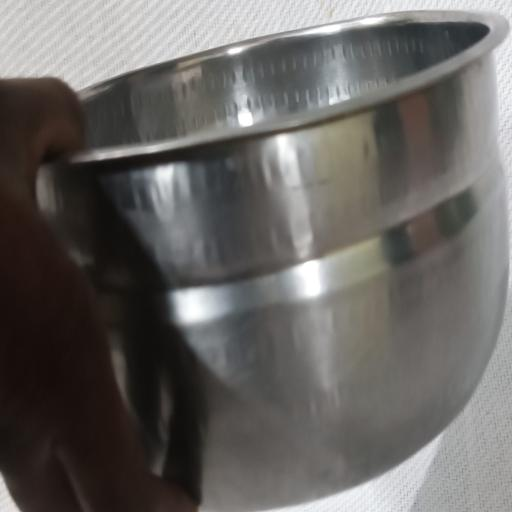vessel: (37, 12, 508, 512)
